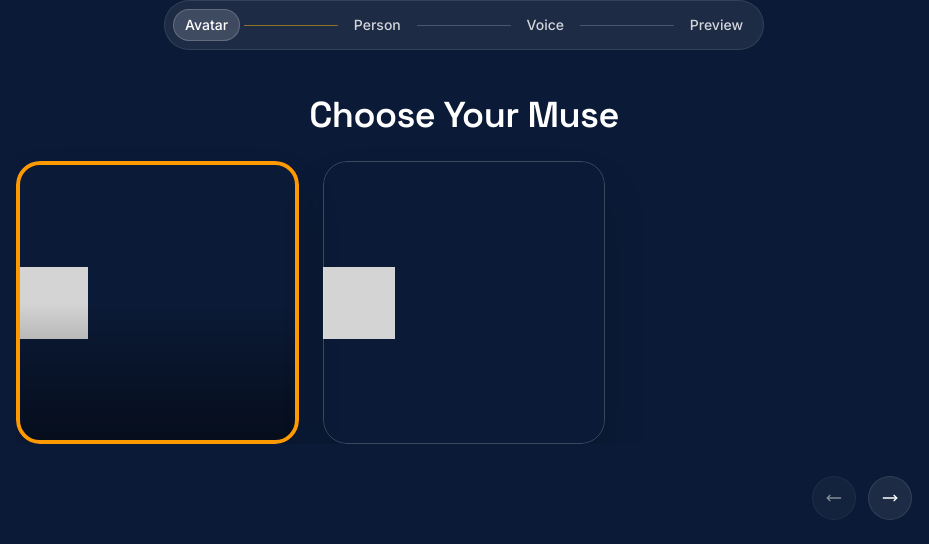
TabForm › keeps next disabled for a one-character name
Expected: the heading "Choose Your Muse" is shown, 309,94 -> 619,138
Click the button named "Go to next tab" at (890, 498), box 868,476 -> 912,520
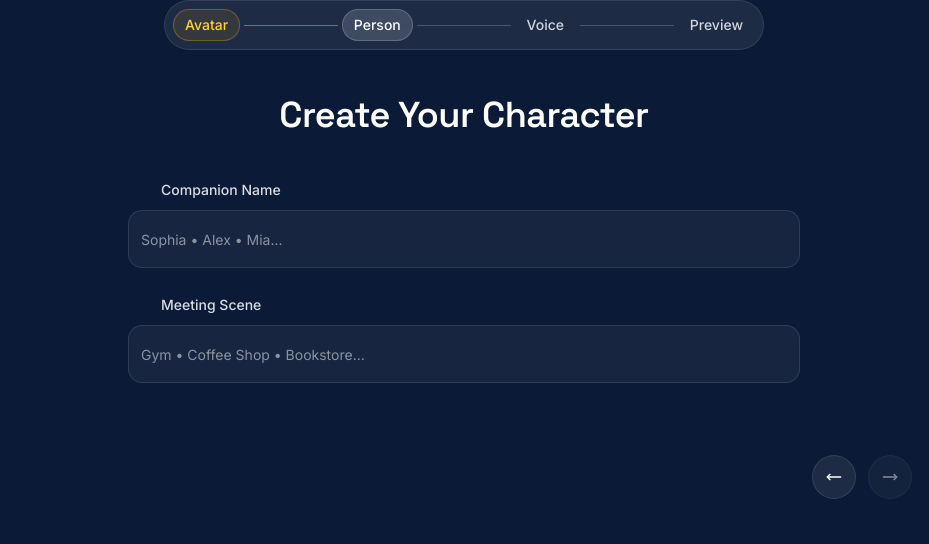
Type "A" into the field with placeholder "Sophia • Alex • Mia..." at (464, 240), box 128,210 -> 800,268
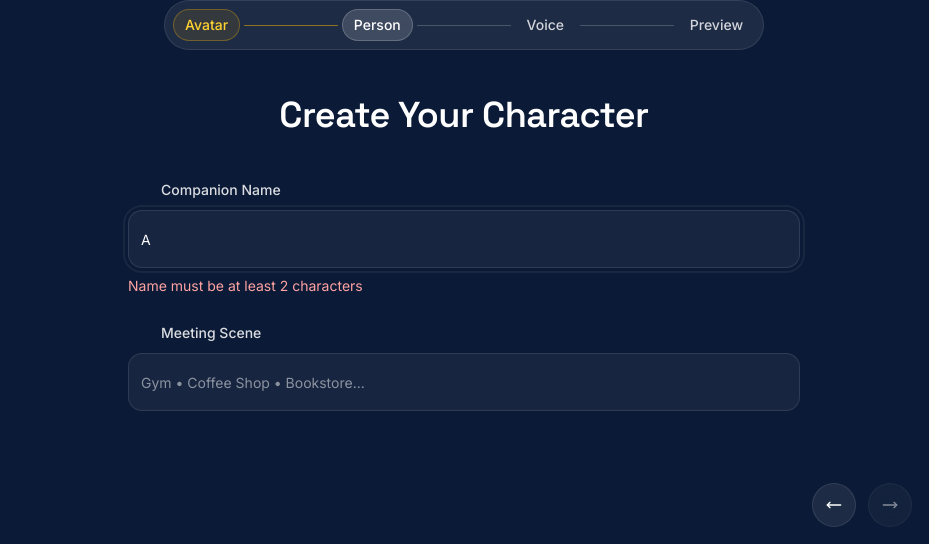
Now the button named "Go to next tab" is disabled, box 868,484 -> 912,528
Now the text "Name must be at least 2 characters" is shown, box 128,278 -> 363,294
